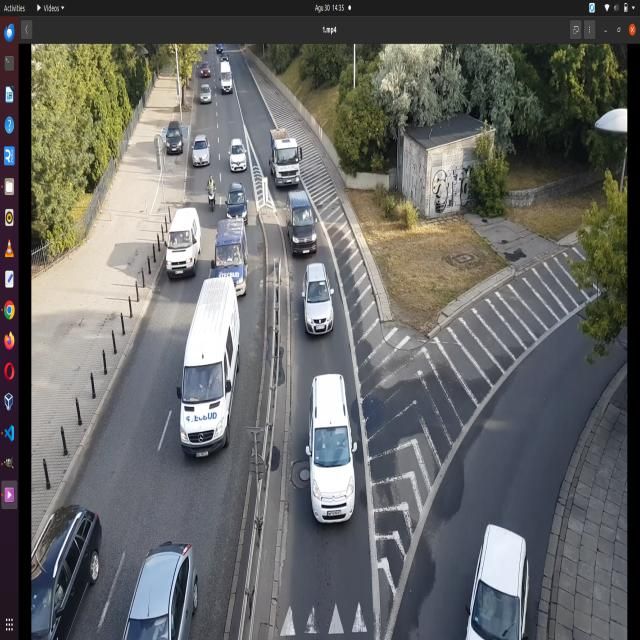person_with_seatbelt: (206, 360, 227, 398), (299, 206, 313, 228)
